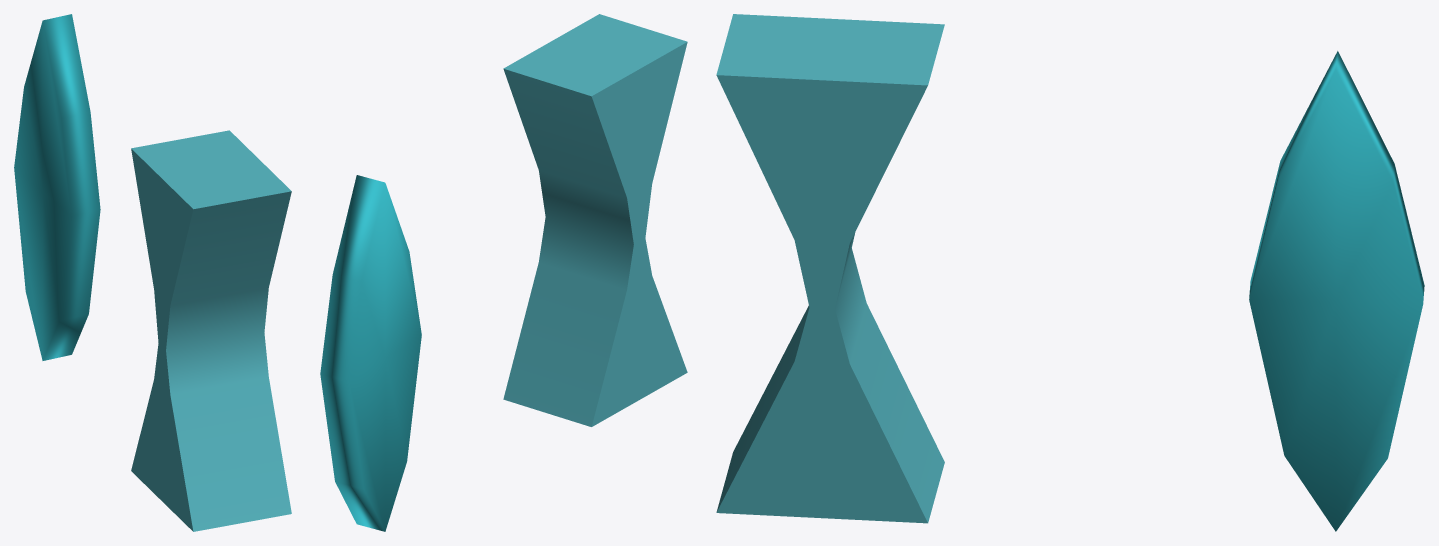
Rendered from level 4.fbx.
The picture shows the model from 3 angles, left to right: view 1: azimuth 30°, elevation 25°; view 2: azimuth 150°, elevation 25°; view 3: azimuth 270°, elevation 25°; orthographic projection. The views are drawn at different scales.
Parts seen in each view (by area): view 1: concave_lens1, convex_lens; view 2: concave_lens1, convex_lens; view 3: concave_lens1, convex_lens.
Boxes of the visible parts, x1,y1,x2,y2 form: concave_lens1: (131,130,291,531); convex_lens: (14,14,100,360); concave_lens1: (503,14,687,426); convex_lens: (320,175,421,531); concave_lens1: (716,14,944,523); convex_lens: (1249,51,1424,531).
Bounding box in the file's own units: 19.08 × 57.55 × 79.89.
